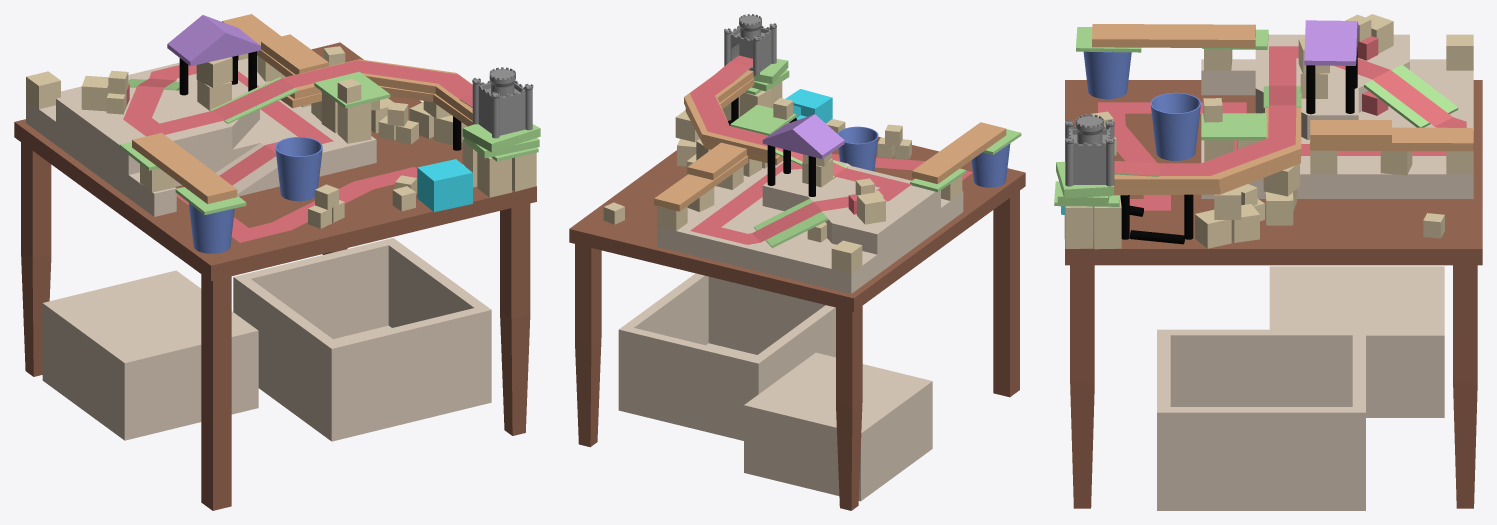
Rendered from board2.fbx.
The picture shows the model from 3 angles, left to right: view 1: azimuth 30°, elevation 25°; view 2: azimuth 150°, elevation 25°; view 3: azimuth 270°, elevation 25°; orthographic projection. The views are drawn at different scales.
Parts seen in each view (by area): view 1: Cube, Cube.045, Cube.044, Cube.013, Cube.007, Cube.012, Cube.037, Cube.033, Cylinder.007, Cube.057, Cube.015, Cube.051 (+17 smaller); view 2: Cube, Cube.045, Cube.044, Cube.007, Cube.013, Cube.012, Cube.037, Cube.033, Cube.022, Cube.015, Cylinder.007, Cube.043 (+13 smaller); view 3: Cube.045, Cube, Cube.044, Cube.007, Cube.013, Cube.012, Cube.037, Cylinder.007, Cube.015, Cube.022, Cube.033, Cylinder.008 (+27 smaller).
Part boxes in pixels (x1,y1,x2,y2): Cube: (14, 42, 536, 510); Cube.045: (233, 238, 491, 441); Cube.044: (42, 270, 258, 440); Cube.013: (123, 60, 472, 242); Cube.007: (26, 56, 376, 216); Cube.012: (56, 80, 259, 174); Cube.037: (132, 133, 237, 204); Cube.033: (167, 15, 260, 66); Cylinder.007: (275, 137, 322, 201); Cube.057: (417, 159, 472, 212); Cube.015: (283, 59, 472, 120); Cube.051: (478, 80, 525, 135); Cube: (569, 136, 1025, 510); Cube.045: (618, 273, 835, 440); Cube.044: (744, 352, 932, 501); Cube.007: (657, 160, 963, 293); Cube.013: (690, 55, 972, 244); Cube.012: (762, 165, 940, 254); Cube.037: (912, 122, 1006, 184); Cube.033: (762, 114, 844, 159); Cube.022: (654, 155, 748, 211); Cube.015: (684, 70, 777, 156); Cylinder.007: (837, 126, 878, 171); Cube.043: (687, 142, 746, 179); Cube.045: (1157, 329, 1365, 510); Cube: (1065, 80, 1482, 508); Cube.044: (1269, 266, 1444, 417); Cube.007: (1201, 59, 1473, 198); Cube.013: (1098, 46, 1466, 210); Cube.012: (1255, 34, 1409, 139); Cube.037: (1092, 24, 1255, 48); Cylinder.007: (1150, 92, 1200, 160); Cube.015: (1114, 108, 1301, 187); Cube.022: (1310, 127, 1473, 151); Cube.033: (1304, 20, 1358, 65); Cylinder.008: (1083, 51, 1131, 99).
Size of what is drawn, in the model's own units: 4453 by 4732 by 4720.
